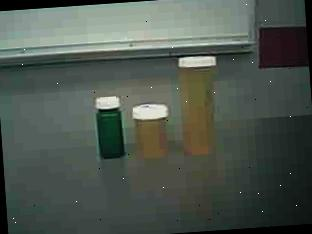Bottle A: (171, 47, 228, 161)
Bottle B: (131, 99, 173, 163)
Bottle C: (91, 90, 131, 164)
